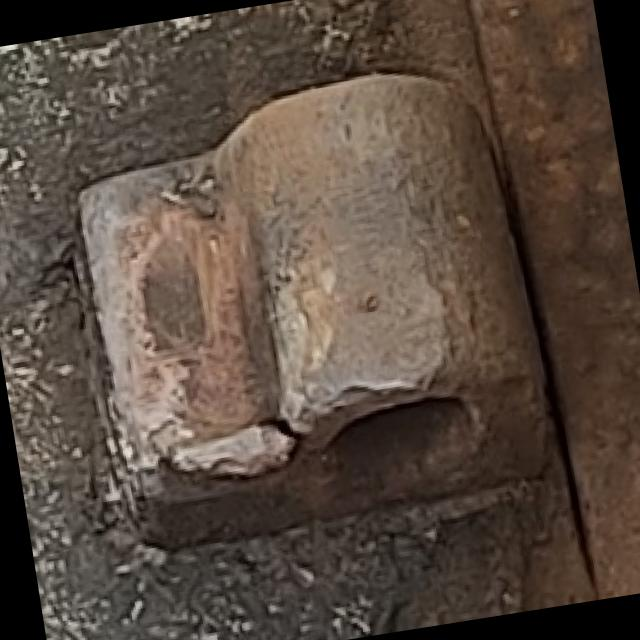track_bolt_missing: (198, 46, 561, 522)
